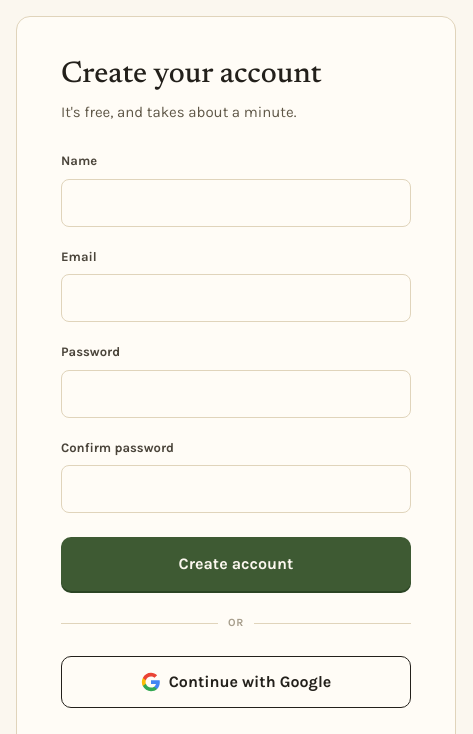
Scenario: RegisterPage › offers sign-in when the email is already registered
This screenshot has width=473, height=734.
Type "Jamie Alder" into the field labelled "Name". click: (236, 202)
box: [61,178,411,226]
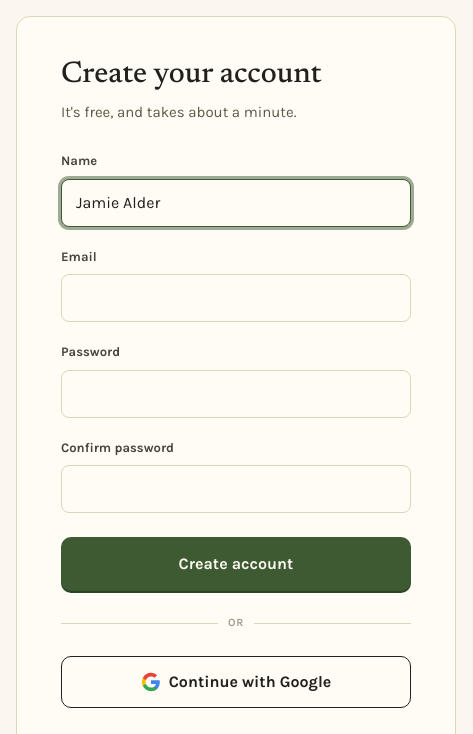
Type "jamie@example.com" into the field labelled "Email". click: (236, 298)
box: [61,274,411,322]
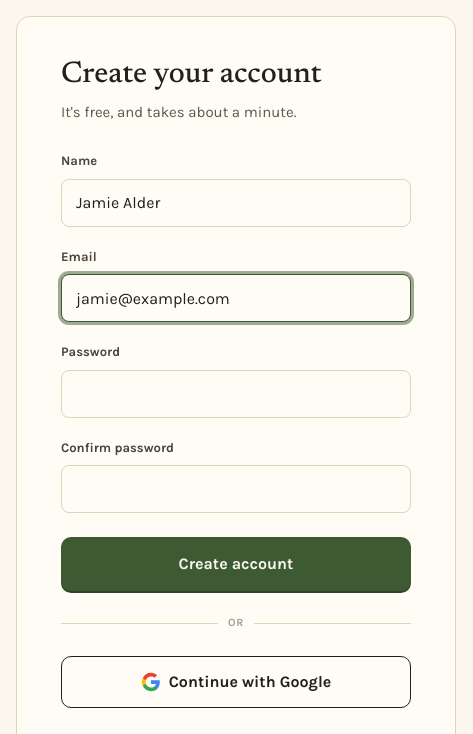
Type "correcthorse" into the password field labelled "Password". click: (236, 394)
box: [61,370,411,418]
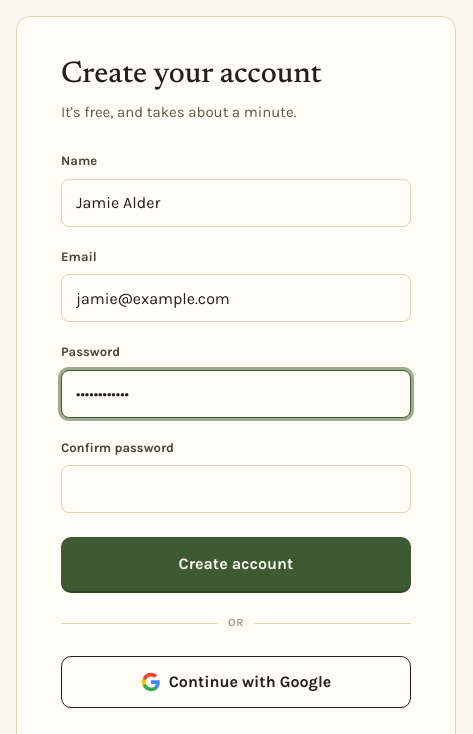
Type "correcthorse" into the password field labelled "Confirm password". click: (236, 489)
box: [61,465,411,513]
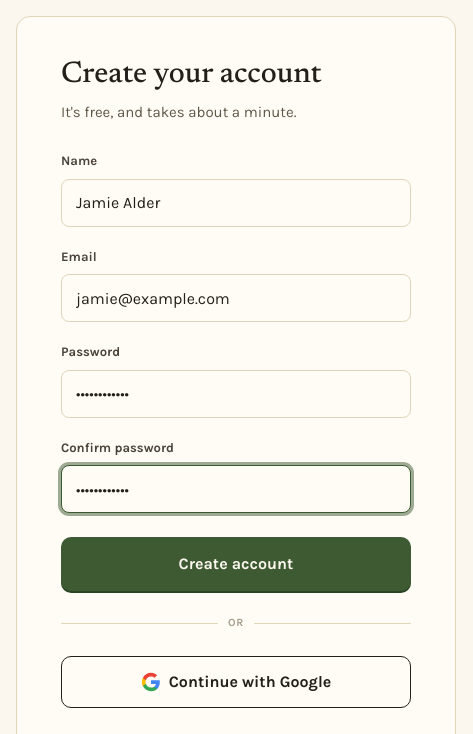
Click the button "Create account". click: (236, 564)
box: [61,537,411,591]
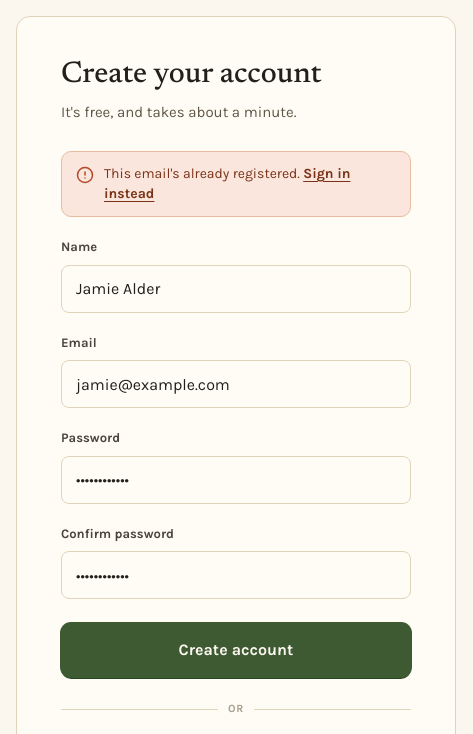
Now the message shows "This email's already registered.", box [104,165,300,182]
